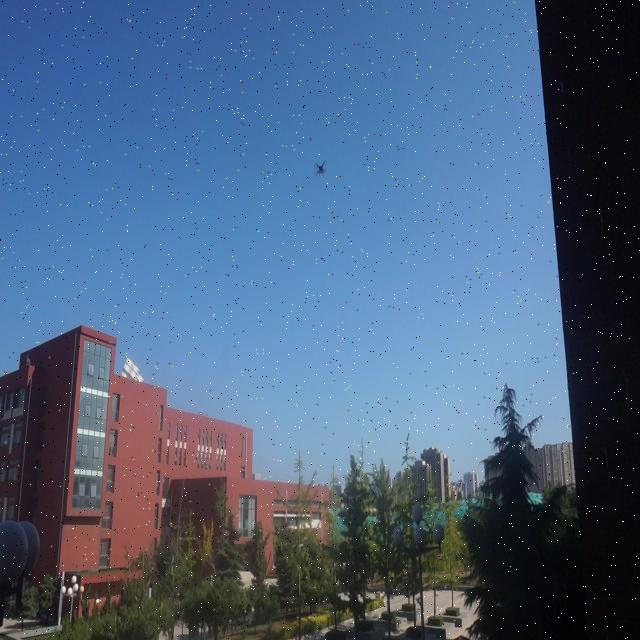UAV: (314, 161, 327, 176)
